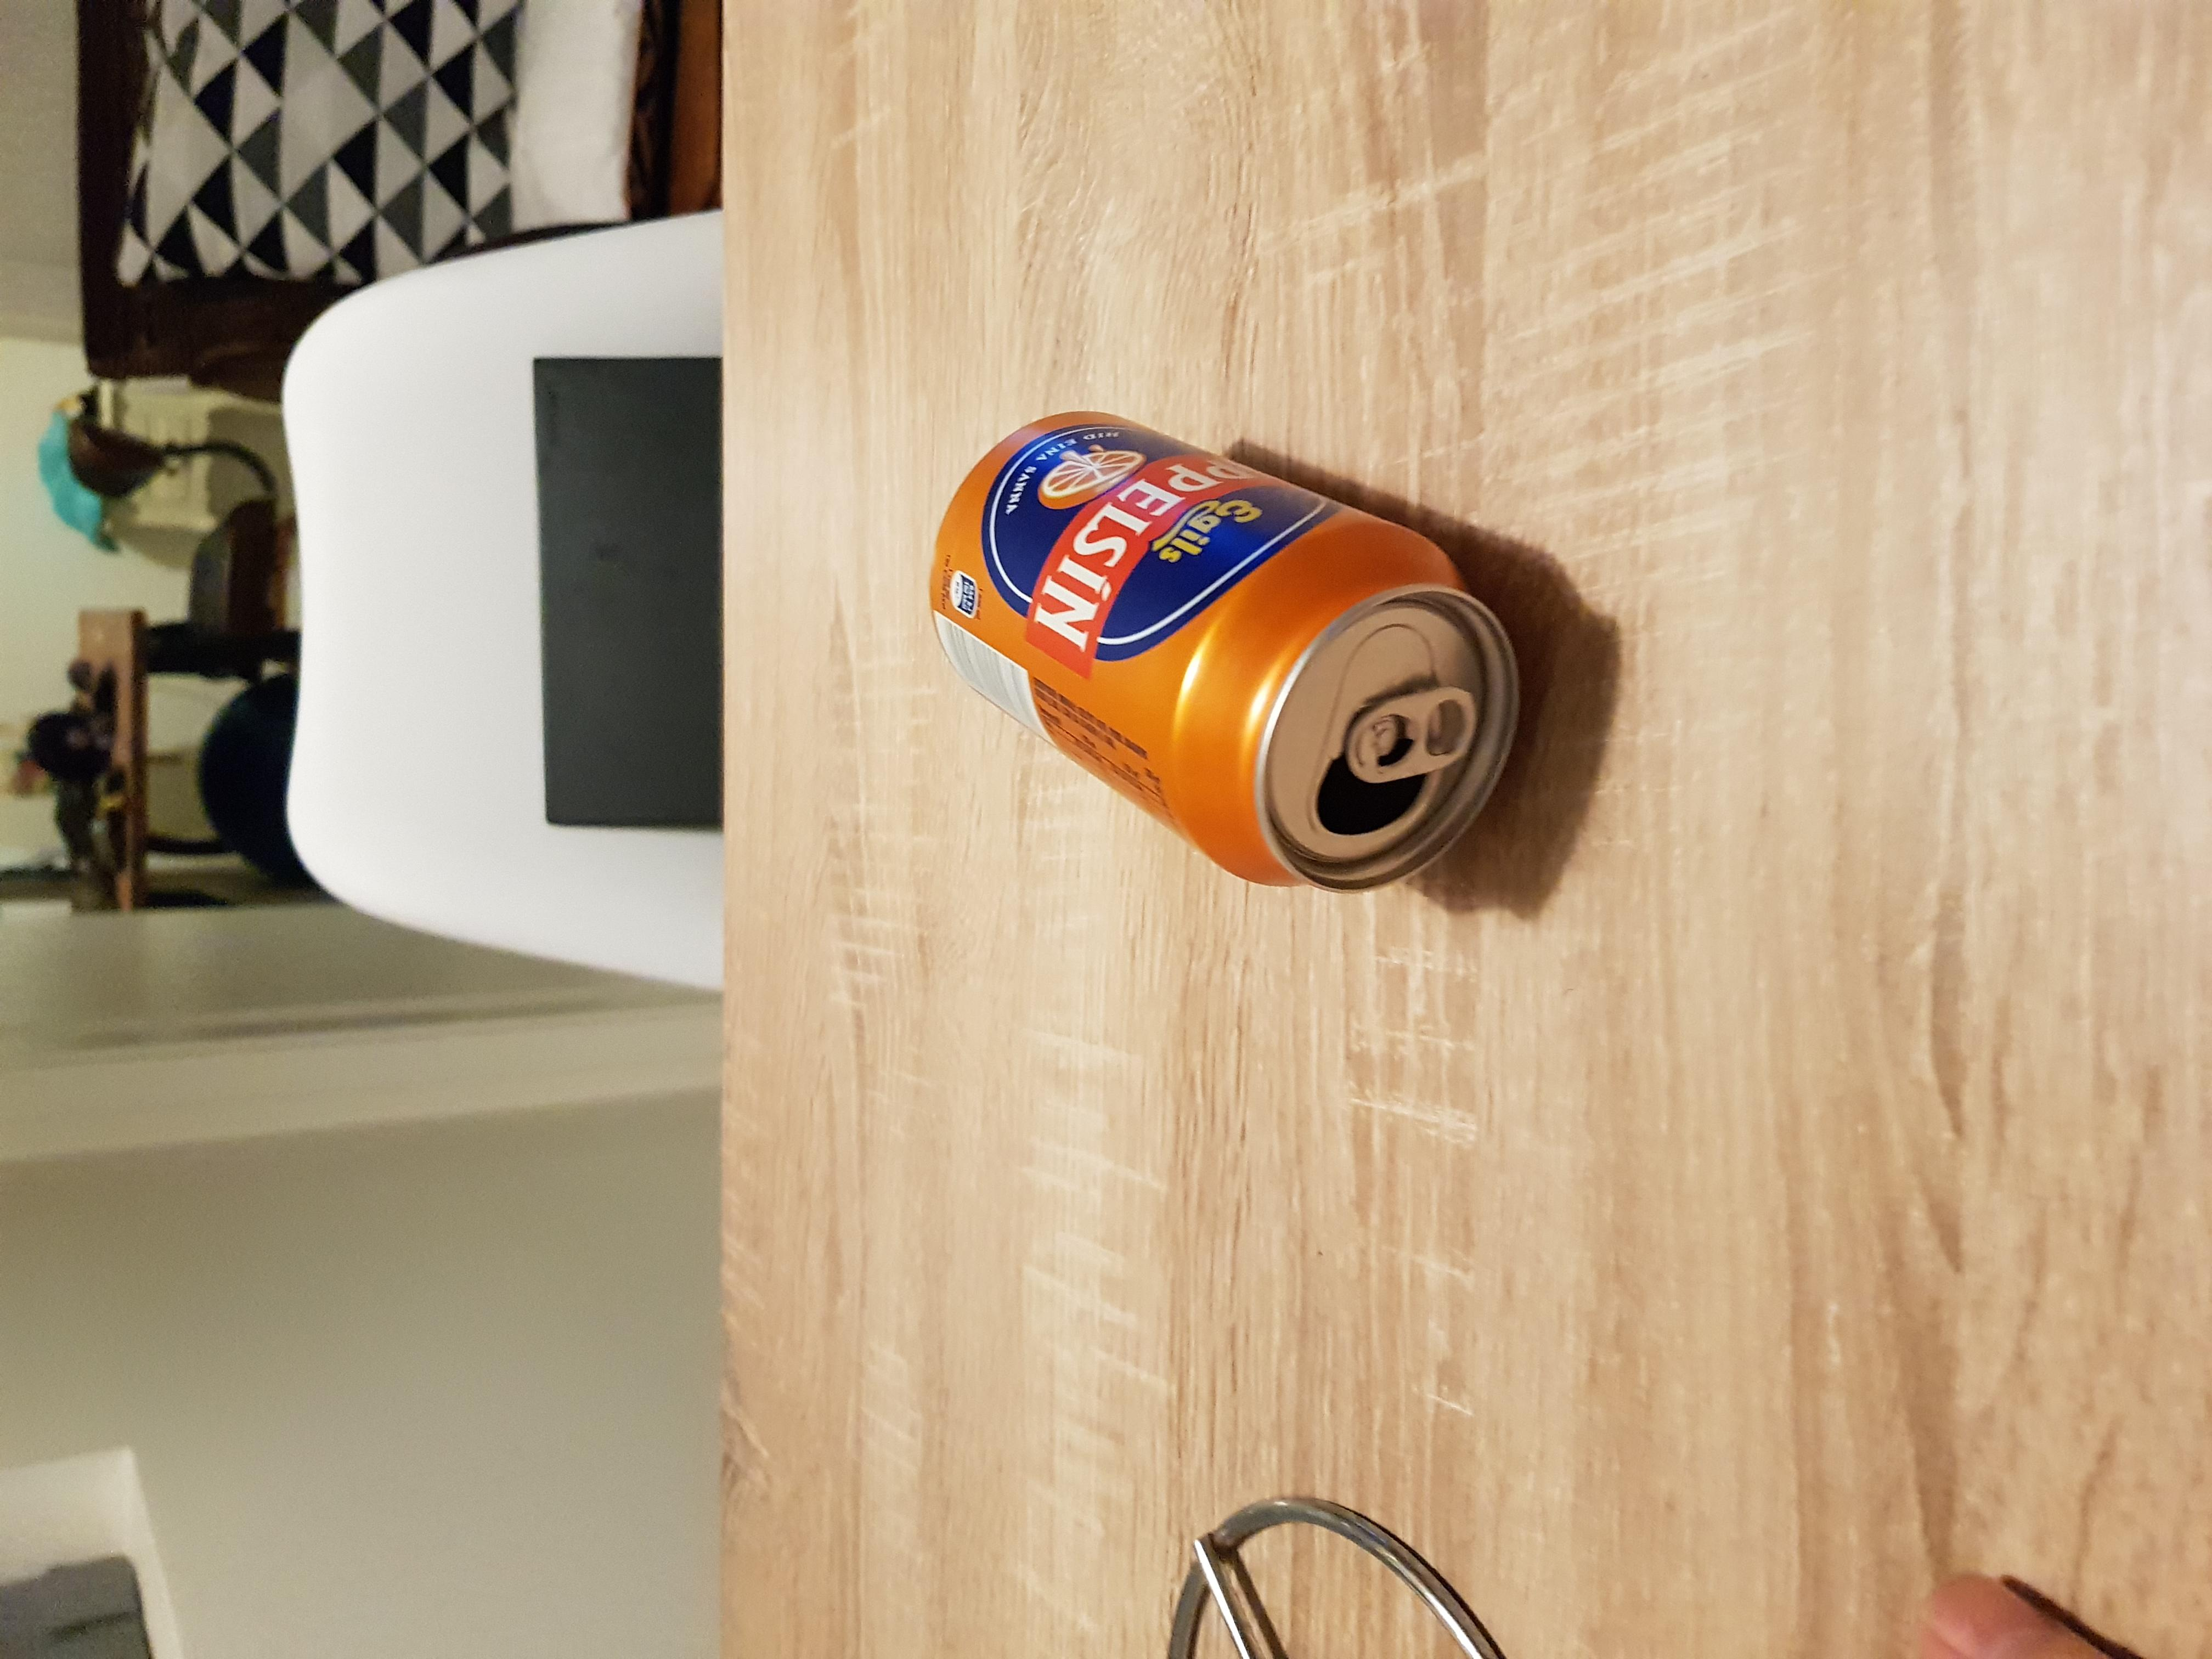can: (930, 401, 1531, 904)
